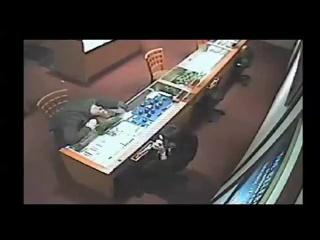normal: (24, 40, 304, 205)
